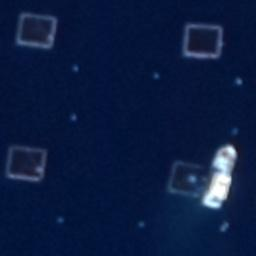square_cover: (165, 155, 213, 199), (3, 141, 50, 185), (13, 9, 60, 52)
square_solid: (178, 19, 228, 61)
